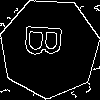B: (24, 23, 71, 59)
